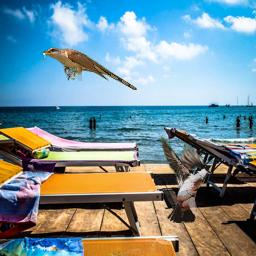Cuckoo: (40, 47, 137, 90)
Swallow: (158, 133, 212, 223)
